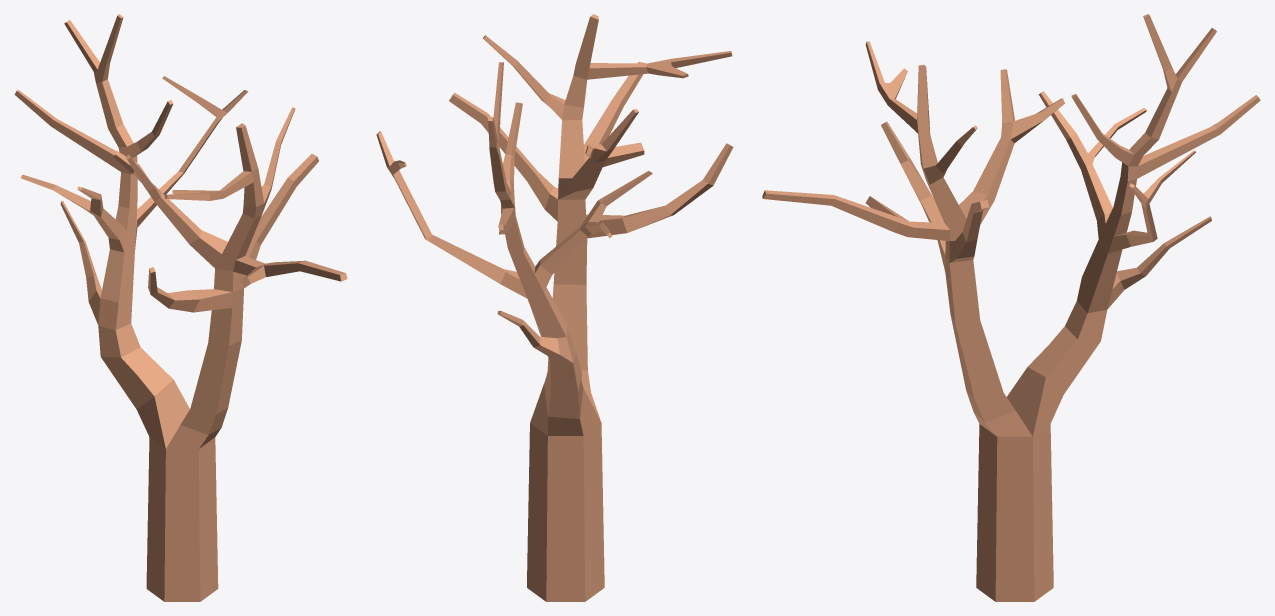
The model's file is TreeEucalyptusTrunkA.glb.
The picture shows the model from 3 angles, left to right: view 1: azimuth 30°, elevation 25°; view 2: azimuth 150°, elevation 25°; view 3: azimuth 270°, elevation 25°; orthographic projection. The views are drawn at different scales.
Parts seen in each view (by area): view 1: Cylinder; view 2: Cylinder; view 3: Cylinder.
Part boxes in pixels (bbox=[...]): Cylinder: bbox=[14, 14, 347, 601]; Cylinder: bbox=[376, 14, 733, 601]; Cylinder: bbox=[762, 14, 1260, 601].
Bounding box in the file's own units: 4.54 × 10.25 × 8.09.
